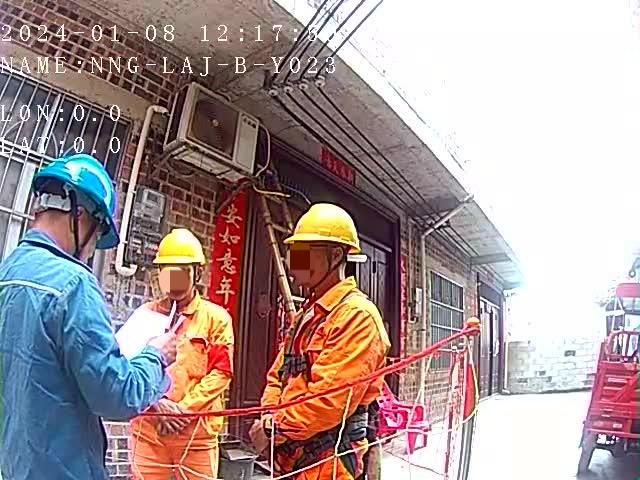halt: (30, 157, 120, 257), (286, 204, 365, 289), (156, 231, 210, 303)
inear: (330, 246, 347, 271), (195, 268, 208, 289)
outear: (68, 198, 99, 246)
